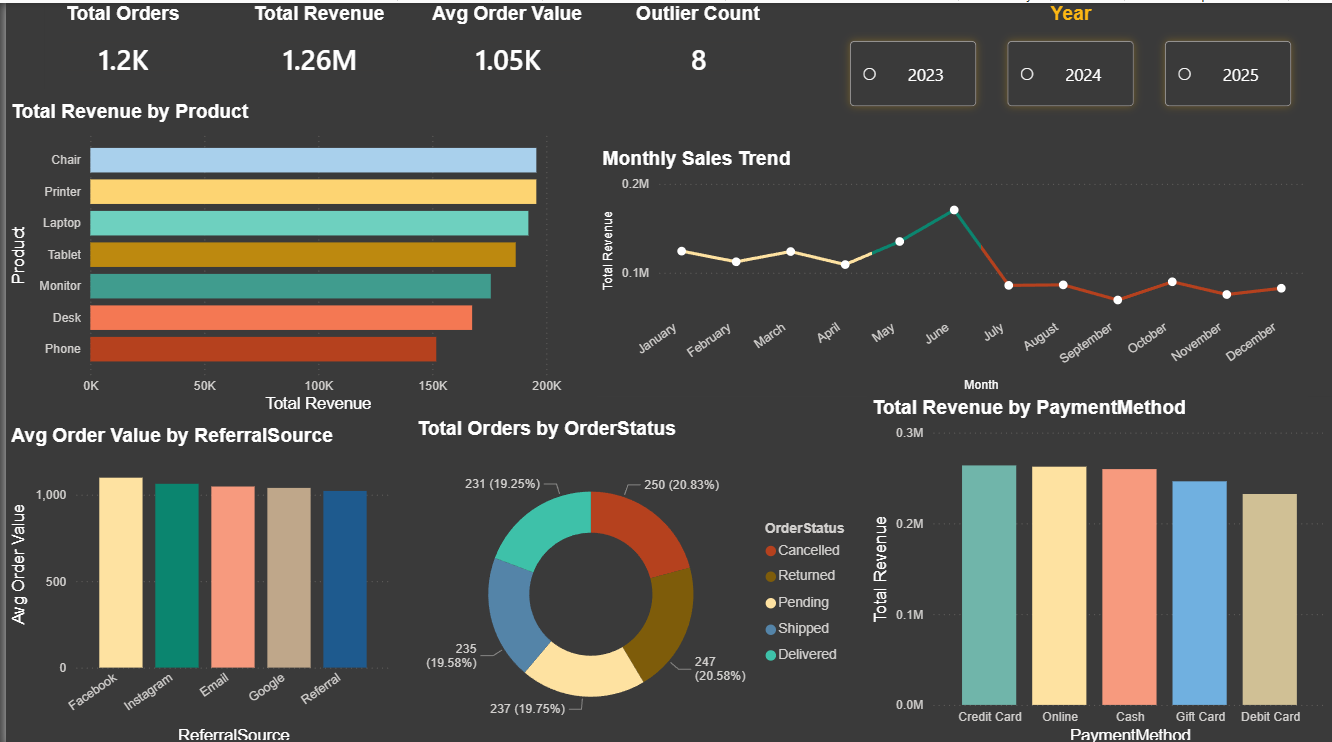

Layout of this report page (visuals, bound fields, positions):
{"tool":"powerbi","page":{"name":"Page 1","canvas":[1280,720],"ordinal":0},"visuals":[{"type":"cardVisual","title":"Total Revenue","fields":{"Data":["Cleaned Sheet.Total Revenue"]},"box":[212.3,0,179.8,83.2],"z":0},{"type":"cardVisual","title":"Avg Order Value","fields":{"Data":["Cleaned Sheet.Avg Order Value"]},"box":[392.1,0,183.4,83.2],"z":1},{"type":"cardVisual","title":"Total Orders","fields":{"Data":["Cleaned Sheet.Total Orders"]},"box":[37.4,0,150.8,83.2],"z":2},{"type":"cardVisual","title":"Outlier Count","fields":{"Data":["Cleaned Sheet.Outlier Count"]},"box":[591.2,0,153.2,83.2],"z":3},{"type":"clusteredBarChart","fields":{"Category":["Cleaned Sheet.Product"],"Y":["Cleaned Sheet.Total Revenue"]},"box":[0,94.1,541.7,306.4],"z":4},{"type":"donutChart","fields":{"Category":["Cleaned Sheet.OrderStatus"],"Y":["Cleaned Sheet.Total Orders"]},"box":[392.1,400.5,439.1,319.7],"z":5},{"type":"lineChart","title":"Monthly Sales Trend","fields":{"Category":["Cleaned Sheet.Month.Variation.Date Hierarchy.Month"],"Y":["Cleaned Sheet.Total Revenue"]},"box":[570.6,139.9,686.5,240.1],"z":6},{"type":"clusteredColumnChart","fields":{"Y":["Cleaned Sheet.Total Revenue"],"Category":["Cleaned Sheet.PaymentMethod"]},"box":[831.2,380,448.8,340.2],"z":7},{"type":"columnChart","fields":{"Y":["Cleaned Sheet.Avg Order Value"],"Category":["Cleaned Sheet.ReferralSource"]},"box":[0,406.6,376.4,313.7],"z":8},{"type":"advancedSlicerVisual","fields":{"Values":["Cleaned Sheet.Month.Variation.Date Hierarchy.Year"]},"box":[798.7,0,458.4,115.8],"z":9}]}

Visuals, with their boxes in screenshot pixels (x1, y1, x2, y2), scaled from the page's 1280x720 canvas onto the 1332x742 screenshot:
"Total Revenue" cardVisual: select_region(221, 0, 408, 86)
"Avg Order Value" cardVisual: select_region(408, 0, 599, 86)
"Total Orders" cardVisual: select_region(39, 0, 196, 86)
"Outlier Count" cardVisual: select_region(615, 0, 775, 86)
clusteredBarChart - Cleaned Sheet.Product x Cleaned Sheet.Total Revenue: select_region(0, 97, 564, 413)
donutChart - Cleaned Sheet.OrderStatus x Cleaned Sheet.Total Orders: select_region(408, 413, 865, 741)
"Monthly Sales Trend" lineChart: select_region(594, 144, 1308, 392)
clusteredColumnChart - Cleaned Sheet.Total Revenue x Cleaned Sheet.PaymentMethod: select_region(865, 392, 1331, 741)
columnChart - Cleaned Sheet.Avg Order Value x Cleaned Sheet.ReferralSource: select_region(0, 419, 392, 741)
advancedSlicerVisual - Cleaned Sheet.Month.Variation.Date Hierarchy.Year: select_region(831, 0, 1308, 119)
